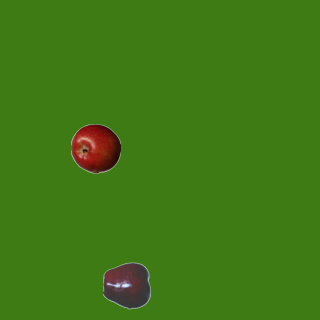Apple Braeburn: (70, 123, 120, 173)
Apple Red Delicious: (102, 260, 152, 310)
